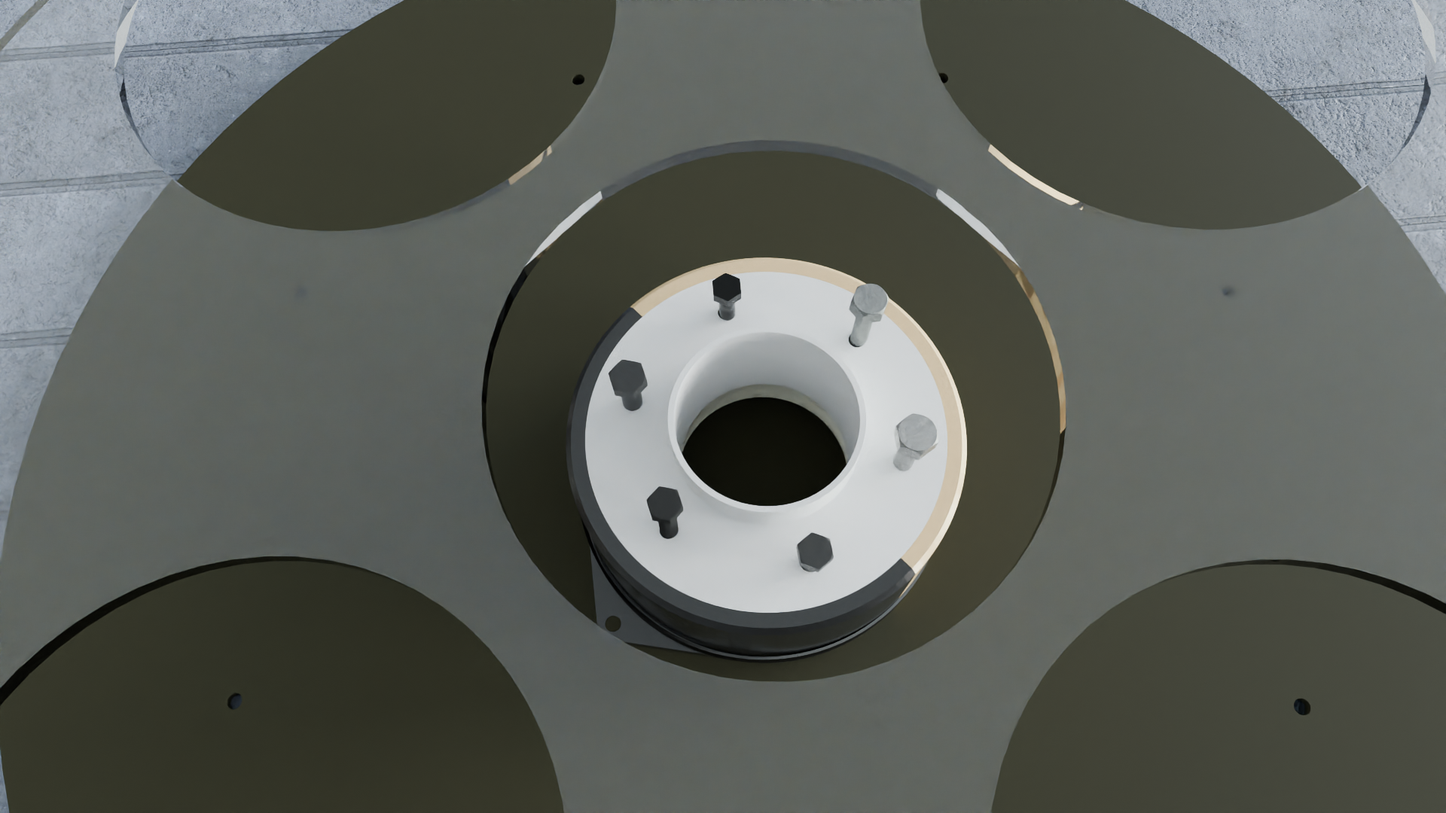bolt: (896, 413, 938, 455), (798, 532, 834, 569), (646, 486, 683, 521), (609, 360, 647, 394), (851, 284, 889, 317), (712, 273, 741, 302)
